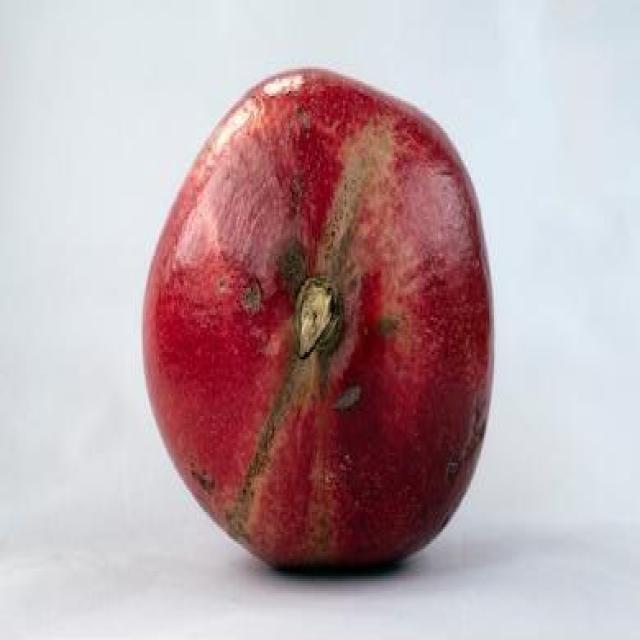Pomegranate: (143, 65, 497, 580)
